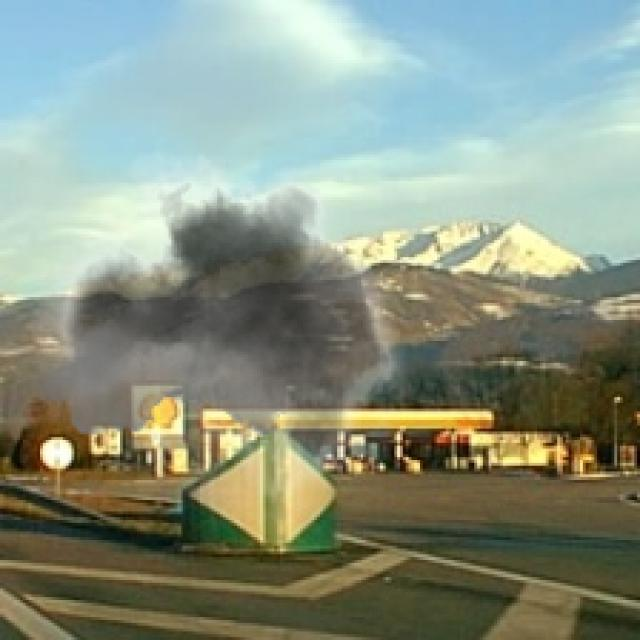Smoke: (31, 131, 423, 546)
